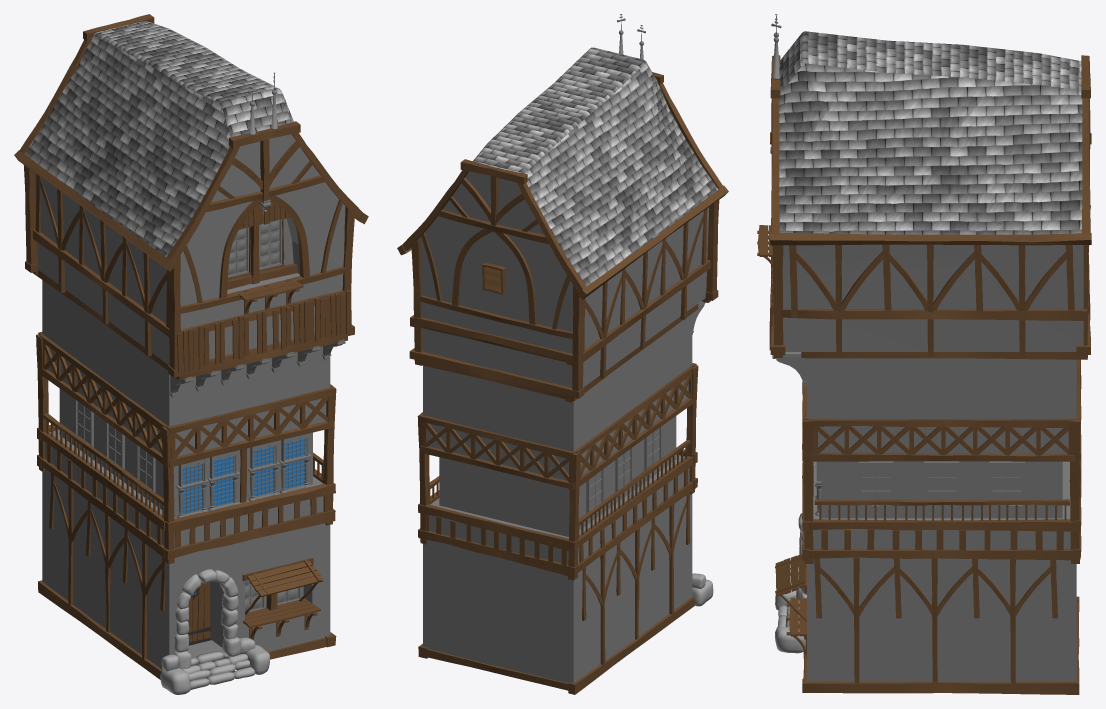
The model's file is SM_house_01.fbx.
3 views of the same model, side by side, from view 1: azimuth 30°, elevation 25°; view 2: azimuth 150°, elevation 25°; view 3: azimuth 270°, elevation 25° (orthographic). The views are drawn at different scales.
Visible parts, largest first — view 1: Object32584; view 2: Object32584; view 3: Object32584.
Boxes of the visible parts, x1=… form: Object32584: x1=14, y1=14, x2=368, y2=694; Object32584: x1=397, y1=14, x2=728, y2=694; Object32584: x1=757, y1=14, x2=1091, y2=694.
Size of the model in its own units: 259 by 731 by 347.
9 materials, 1 textured.
